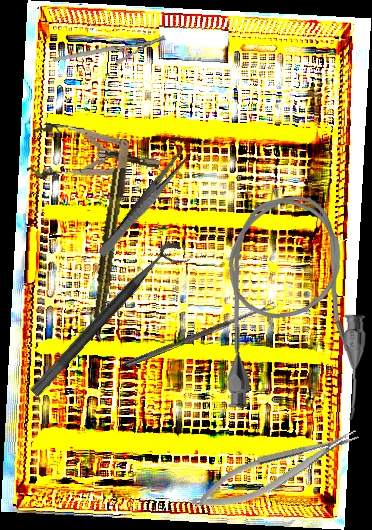Cannula: (220, 192, 369, 425)
Dressing Forceps: (96, 146, 193, 260)
Fixation Ring: (28, 237, 193, 409)
Handpiece: (87, 166, 129, 342)
Needle Holder: (185, 421, 366, 521), (52, 20, 167, 77)
Speculum: (26, 121, 163, 193)
Surgical Spoon: (123, 301, 277, 370)
